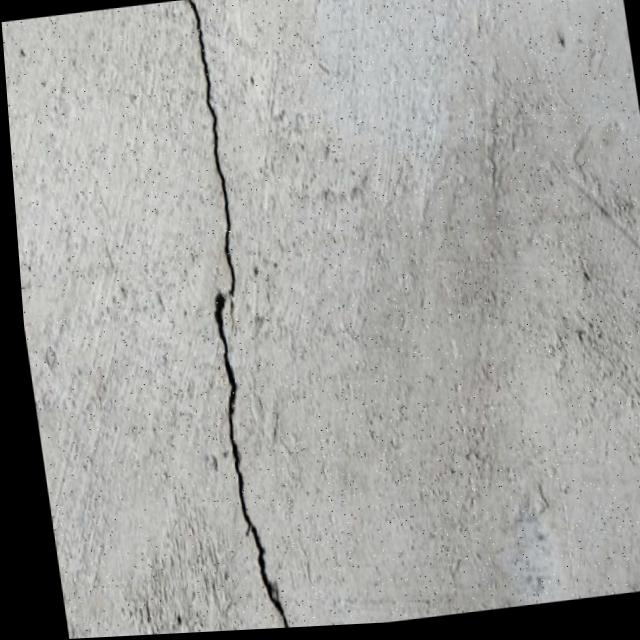Crack: (147, 0, 309, 634)
